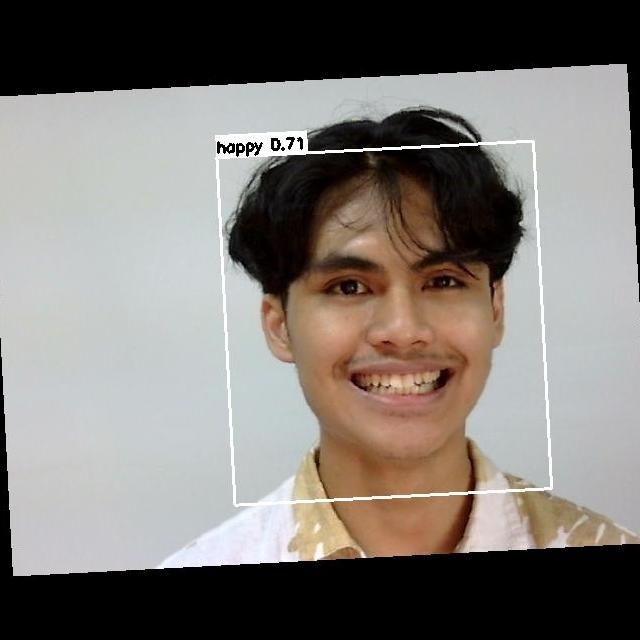Happy: (289, 222, 502, 422)
